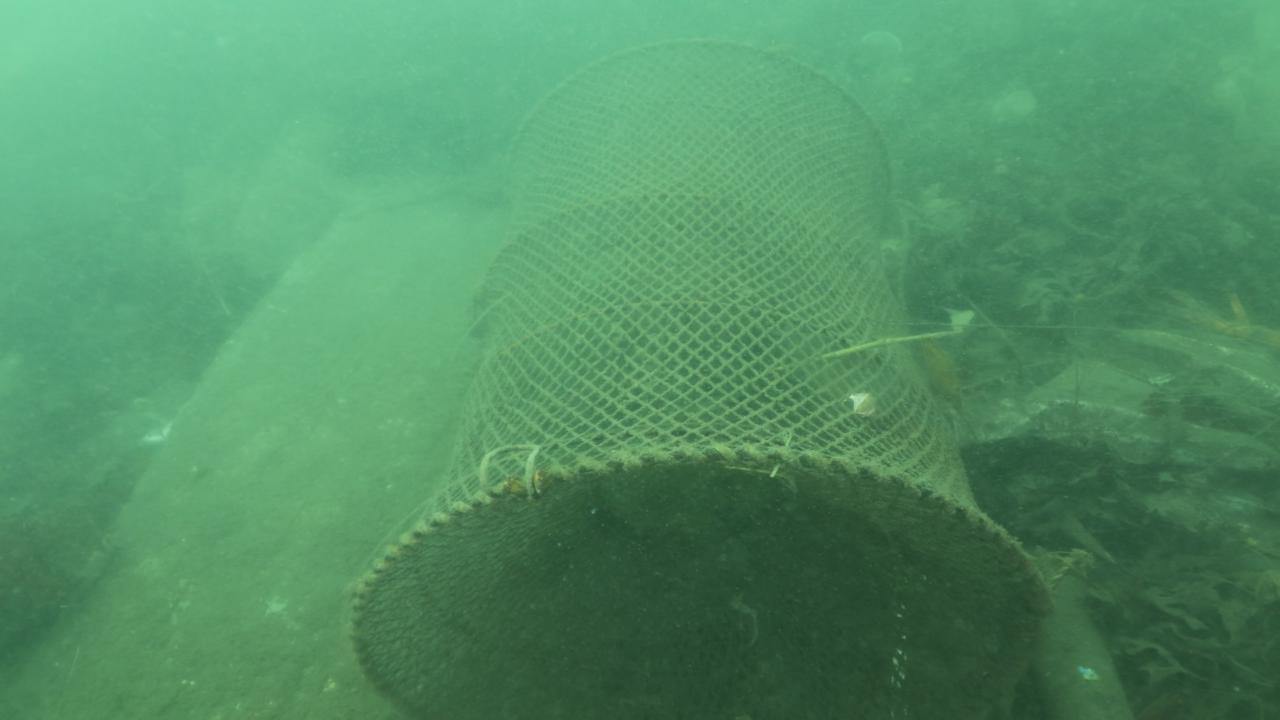spring fish trap: (345, 36, 1058, 720)
